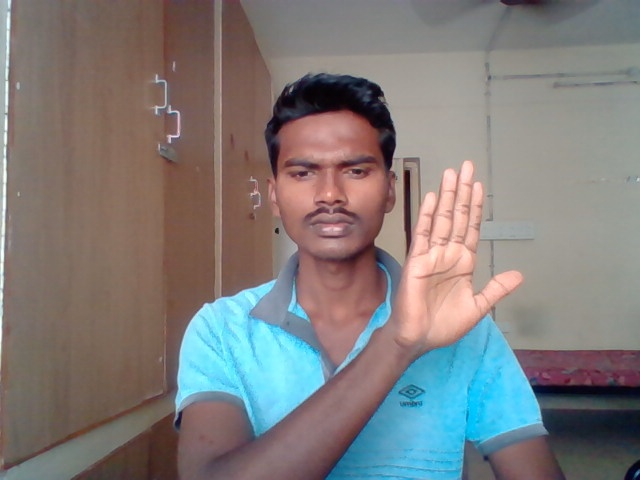Hello: (387, 156, 525, 354)
